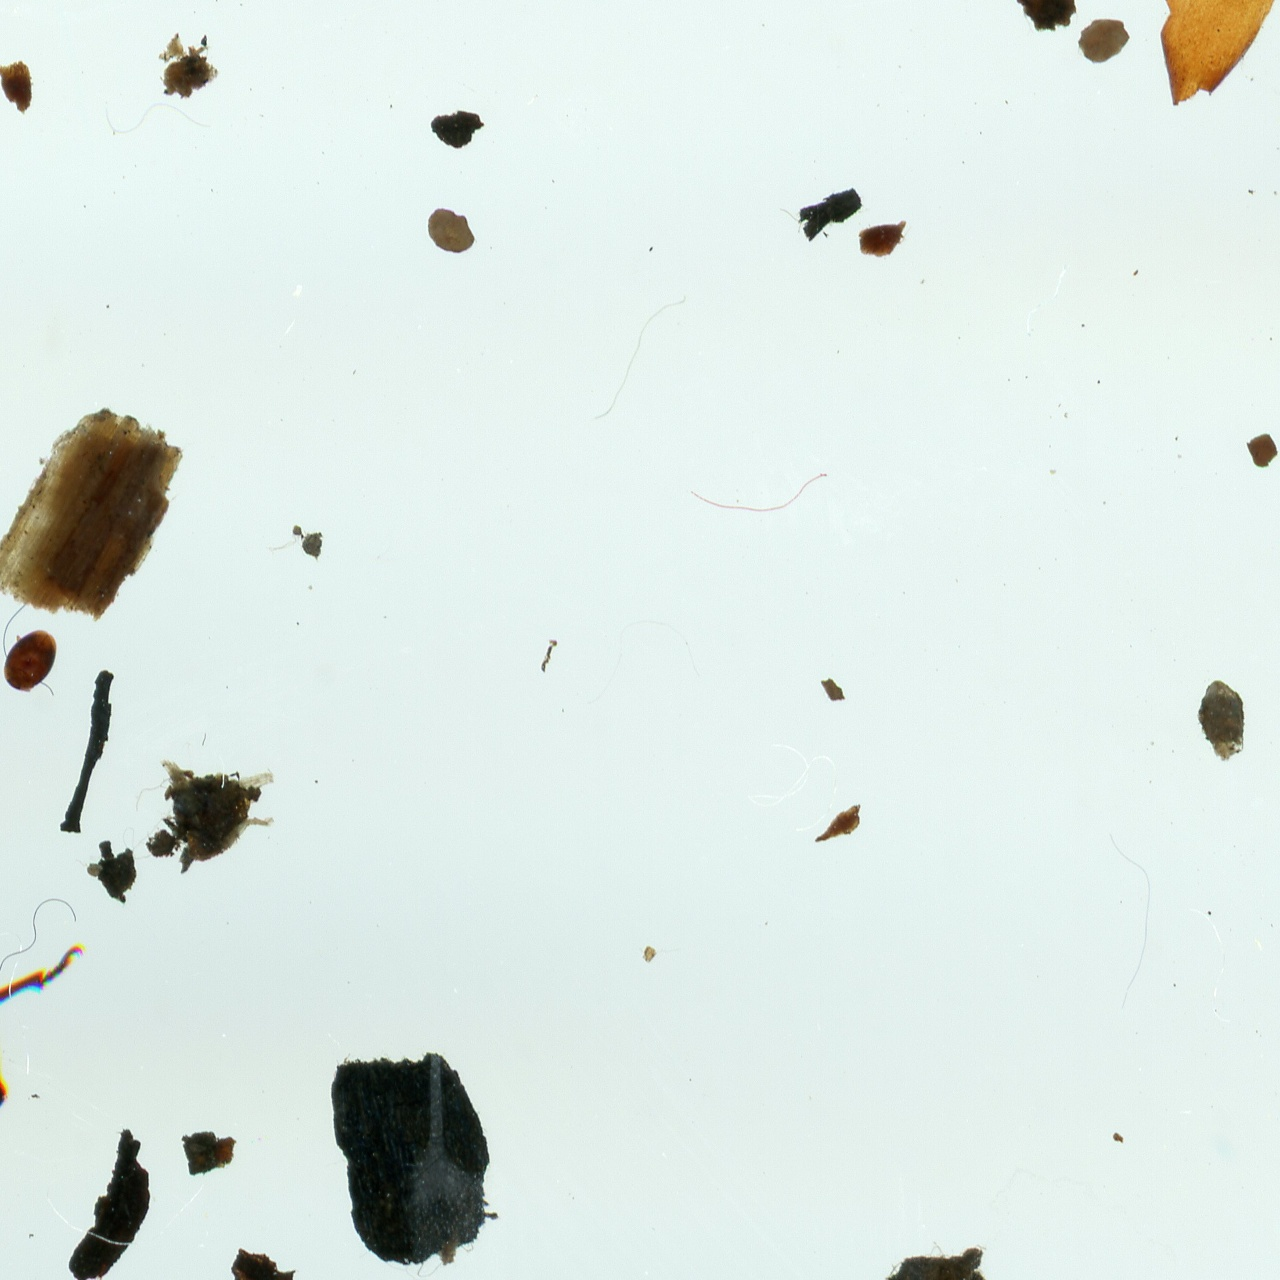arthropod: (3, 628, 57, 692)
